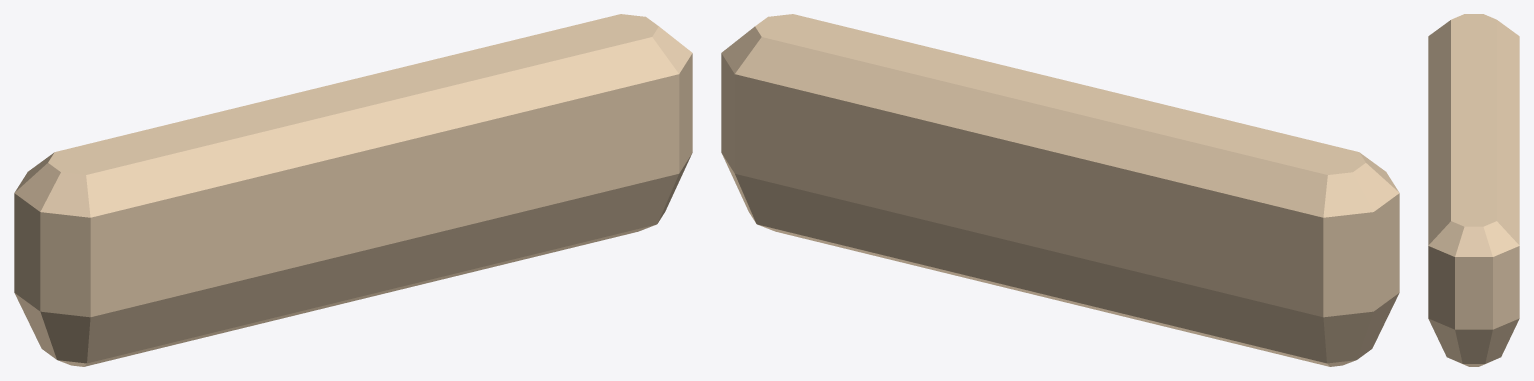
File: temple_Balcony_Base_Straight.glb
3 views of the same model, side by side, from view 1: azimuth 30°, elevation 25°; view 2: azimuth 150°, elevation 25°; view 3: azimuth 270°, elevation 25° (orthographic). The views are drawn at different scales.
Visible parts, largest first — view 1: object1; view 2: object1; view 3: object1.
Part boxes in pixels (left/top/right/bottom): object1: left=14, top=14, right=692, bottom=366; object1: left=721, top=14, right=1399, bottom=366; object1: left=1428, top=14, right=1519, bottom=366.
Size of the model in its own units: 1.2 by 0.35 by 0.2.
